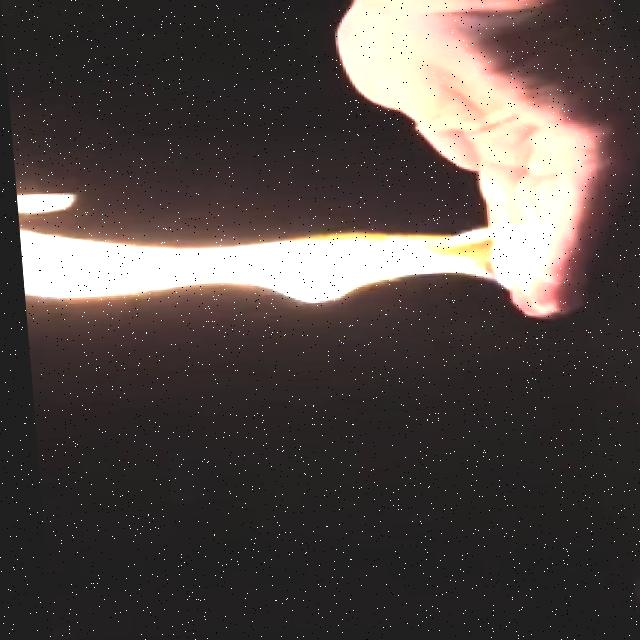Fire: (14, 199, 550, 327)
